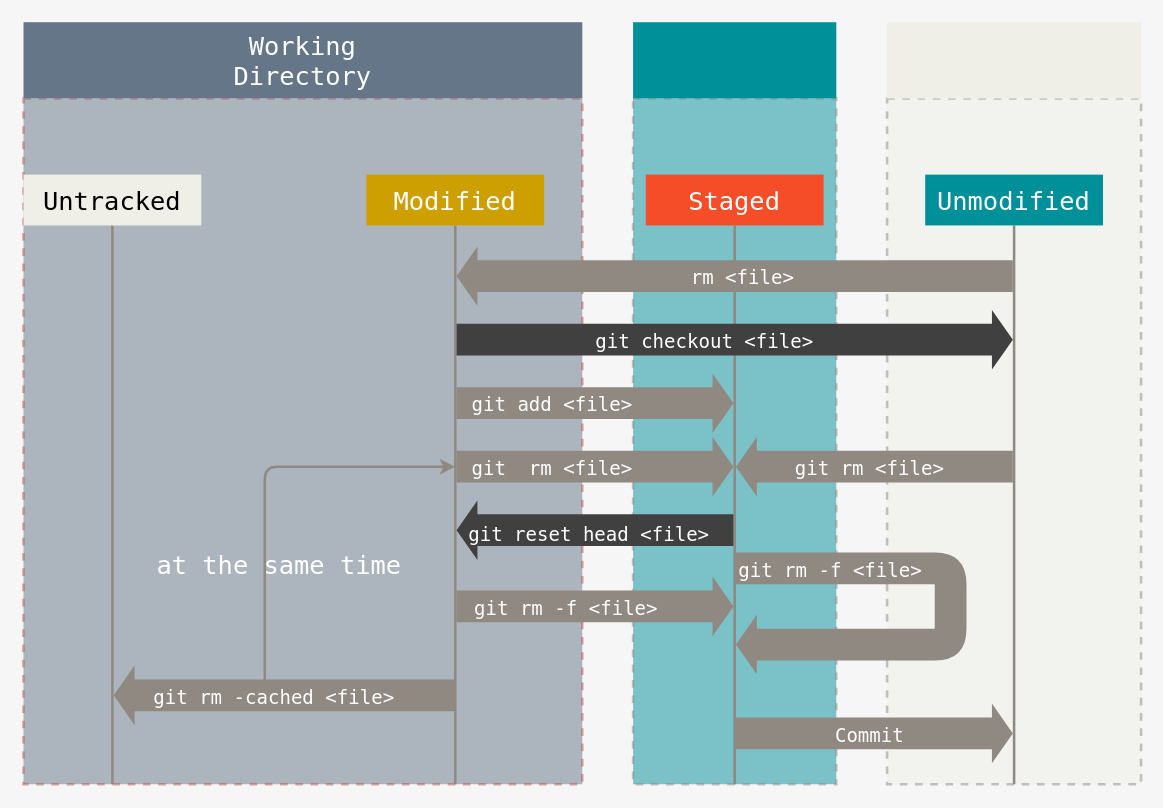
The diagram is 1163 pixels wide and 808 high, and some of its shapes have lost their labels. The centre of each missing label's shape, as x and y in pixels:
".git directory (Repository)" belongs at pixel 1013 60.
"Staging Area" belongs at pixel 734 60.
